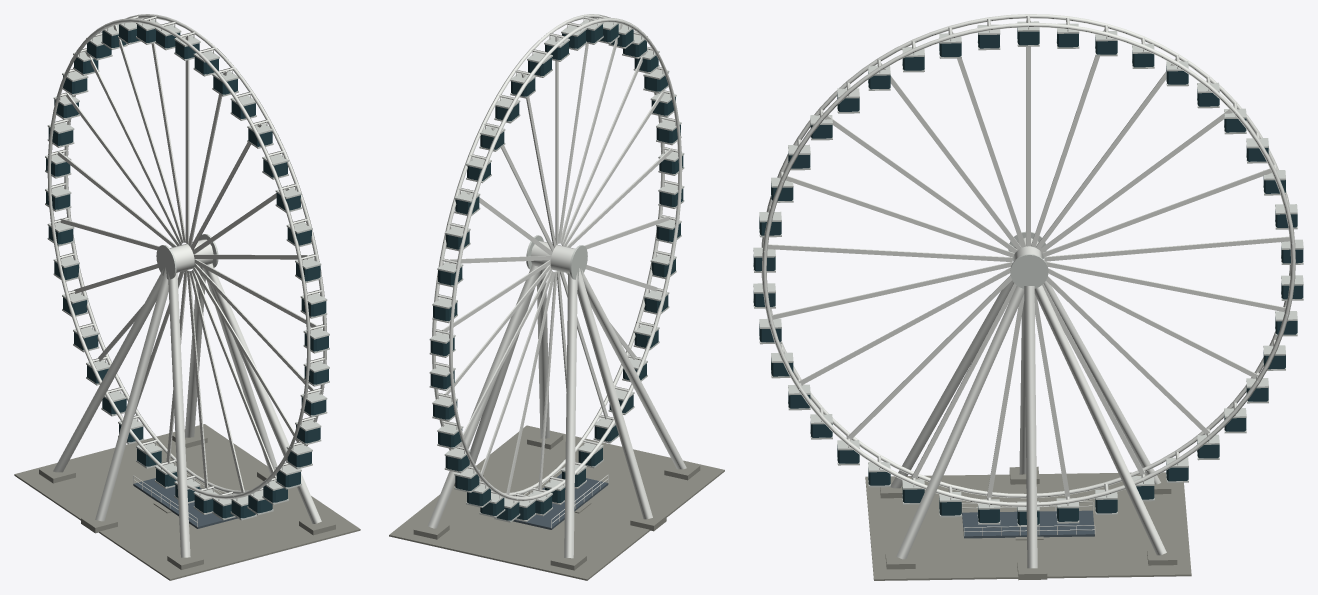
The model's file is grande-roue-montreal-far.glb.
The picture shows the model from 3 angles, left to right: view 1: azimuth 30°, elevation 25°; view 2: azimuth 150°, elevation 25°; view 3: azimuth 270°, elevation 25°; orthographic projection. The views are drawn at different scales.
Parts seen in each view (by area): view 1: grande-roue-montreal-0-lattice, grande-roue-montreal-0-concrete, grande-roue-montreal-0-glass, grande-roue-montreal-0-roof, grande-roue-montreal-0-iron; view 2: grande-roue-montreal-0-lattice, grande-roue-montreal-0-concrete, grande-roue-montreal-0-glass, grande-roue-montreal-0-roof, grande-roue-montreal-0-iron; view 3: grande-roue-montreal-0-lattice, grande-roue-montreal-0-concrete, grande-roue-montreal-0-glass, grande-roue-montreal-0-roof, grande-roue-montreal-0-iron.
Boxes of the visible parts, x1,y1,x2,y2 form: grande-roue-montreal-0-lattice: (47,14,326,557); grande-roue-montreal-0-concrete: (14,424,360,580); grande-roue-montreal-0-glass: (46,24,328,518); grande-roue-montreal-0-roof: (45,19,329,520); grande-roue-montreal-0-iron: (133,478,237,528); grande-roue-montreal-0-lattice: (427,14,686,558); grande-roue-montreal-0-concrete: (389,425,724,580); grande-roue-montreal-0-glass: (430,24,683,520); grande-roue-montreal-0-roof: (429,19,684,522); grande-roue-montreal-0-iron: (513,473,608,529); grande-roue-montreal-0-lattice: (761,14,1295,568); grande-roue-montreal-0-concrete: (865,466,1191,580); grande-roue-montreal-0-glass: (753,28,1303,525); grande-roue-montreal-0-roof: (753,21,1303,526); grande-roue-montreal-0-iron: (962,510,1094,538).
Size of the model in its own units: 27.19 by 60.06 by 58.87.
